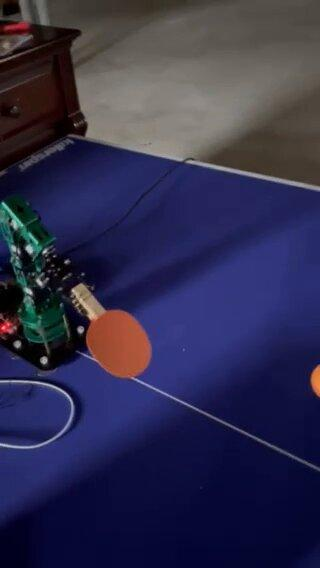oball: (308, 363, 320, 398)
